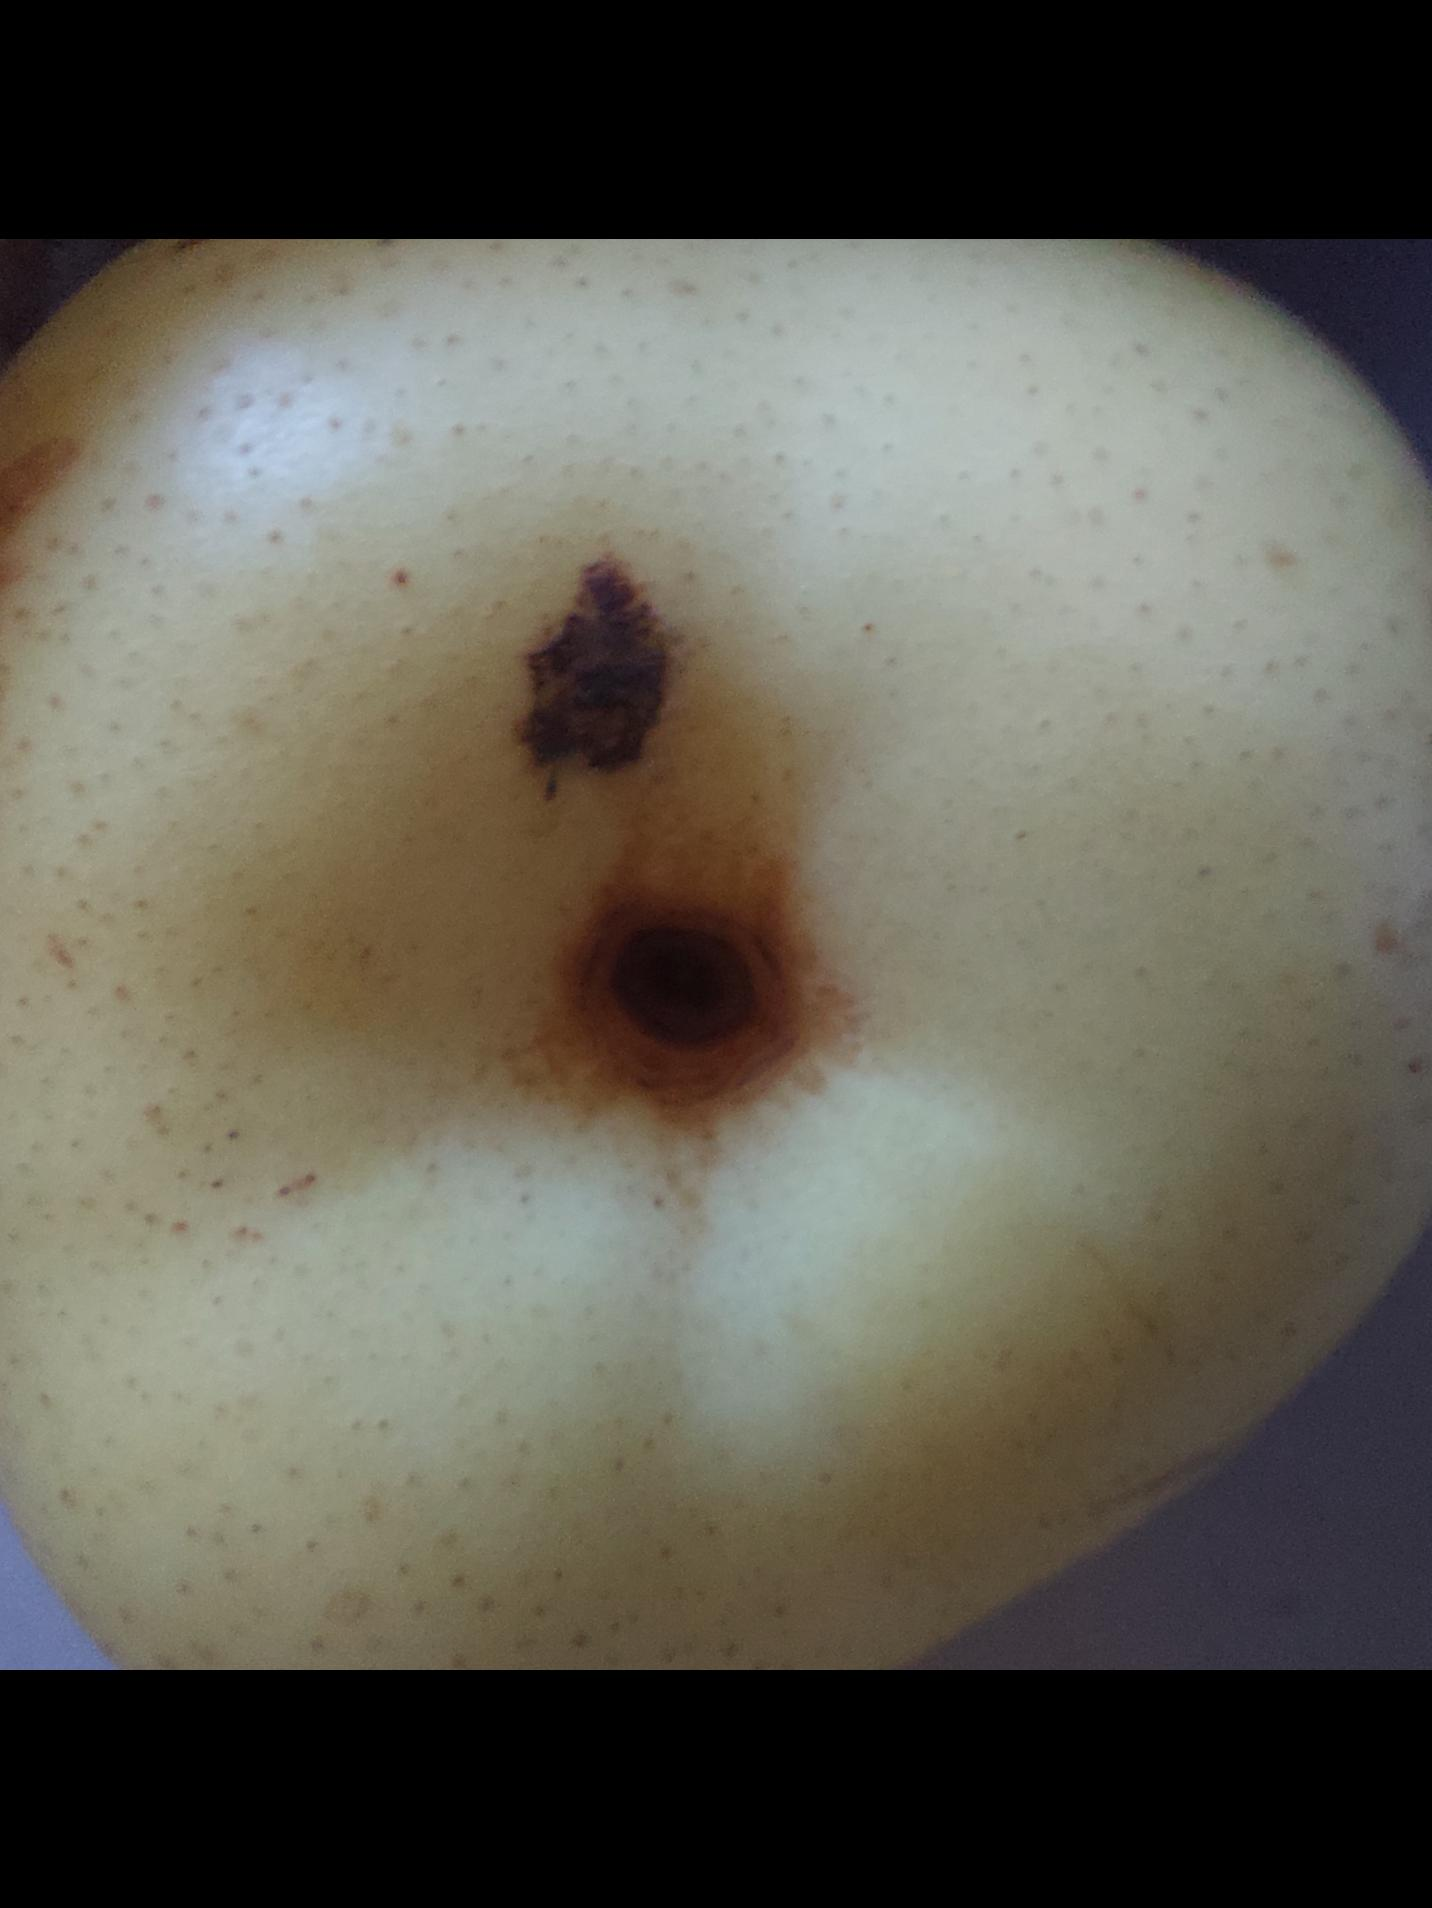Good Pear: (0, 241, 1432, 1670)
